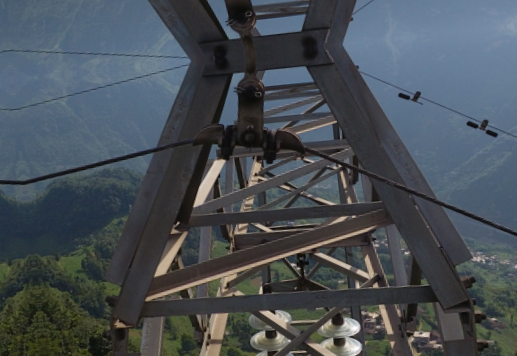damper: (464, 117, 499, 140)
damper_defect: (398, 89, 425, 106)
